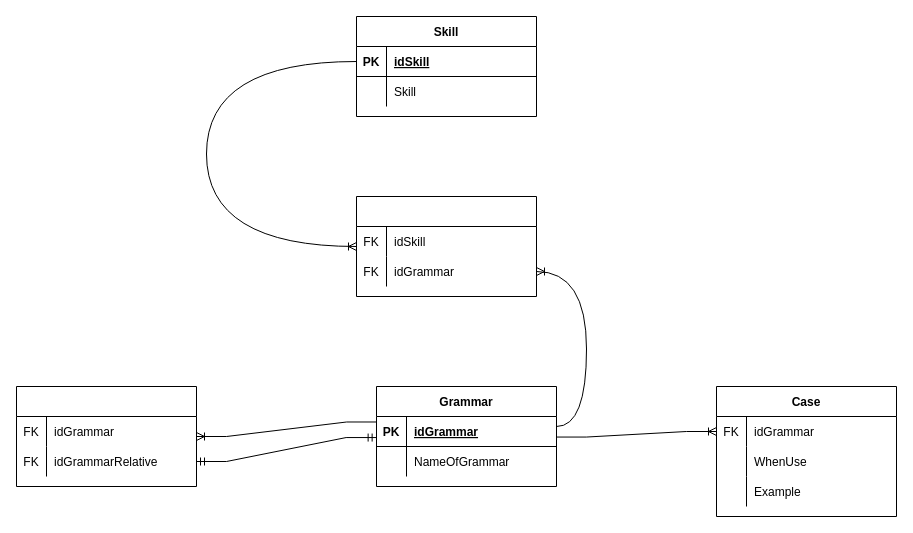
This 913x533 diagram has some shape labels left out. The shapes that lost their labels are listed below. From the top down, each one's box as (x1, y1, x2, y2) in pixels, then its label:
(356, 196, 536, 296): GrammarSkill
(16, 386, 196, 486): RelativeGrammar
